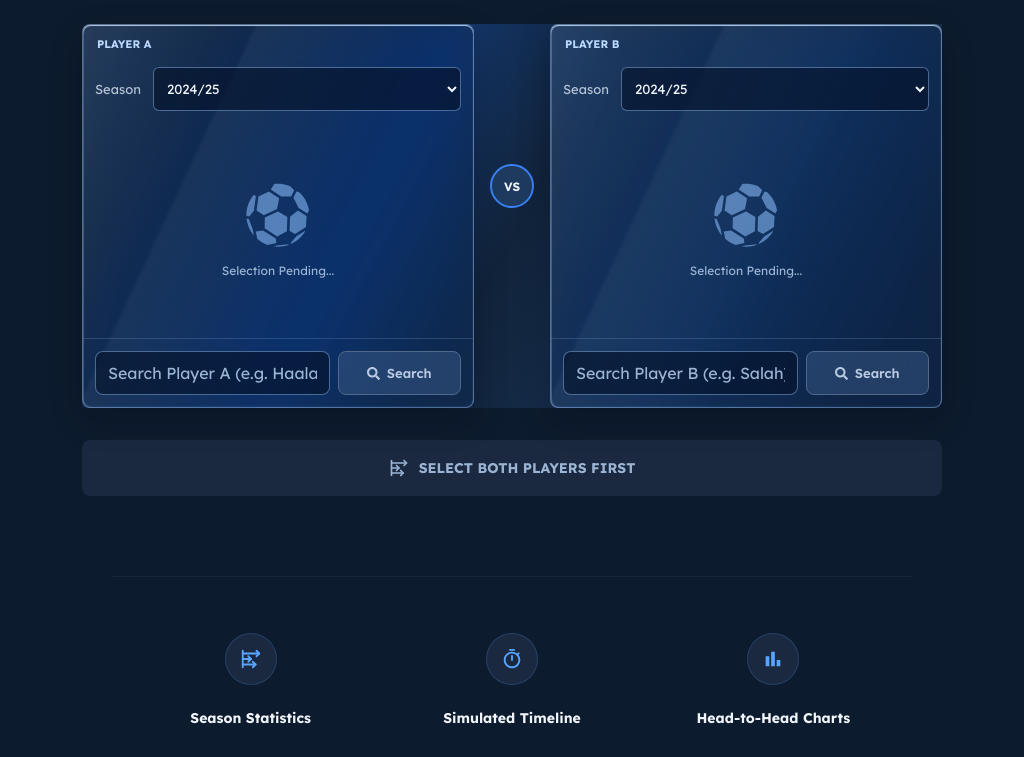
a stalled request times out, stops loading and offers retry
(page scrolled)
Type "Player One" into the field labelled "Player A" at x=212, y=373, box [95,351,330,395]
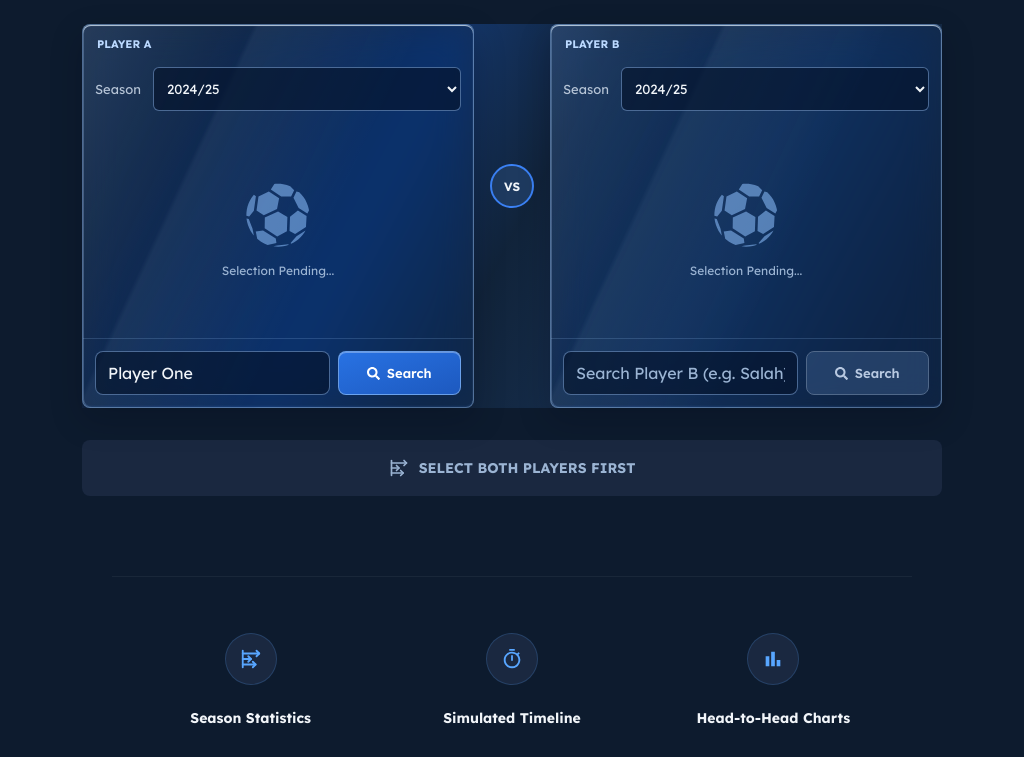
Click the button with aria-label "Search Player A" at x=399, y=373, box [338,351,461,395]
Wait 12000 ms
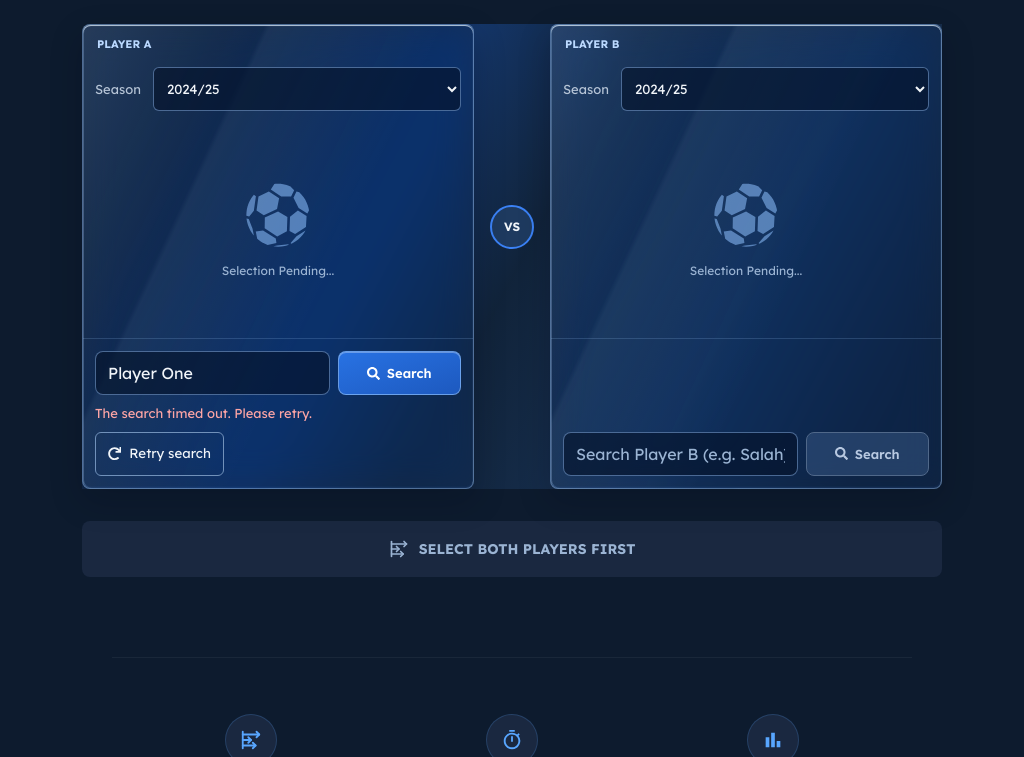
Check: the button with aria-label "Search Player A" is enabled, box [338,351,461,395]
Check: the message shows "timed out", box [95,405,312,421]
Check: the button "Retry search" is enabled, box [95,432,224,476]
